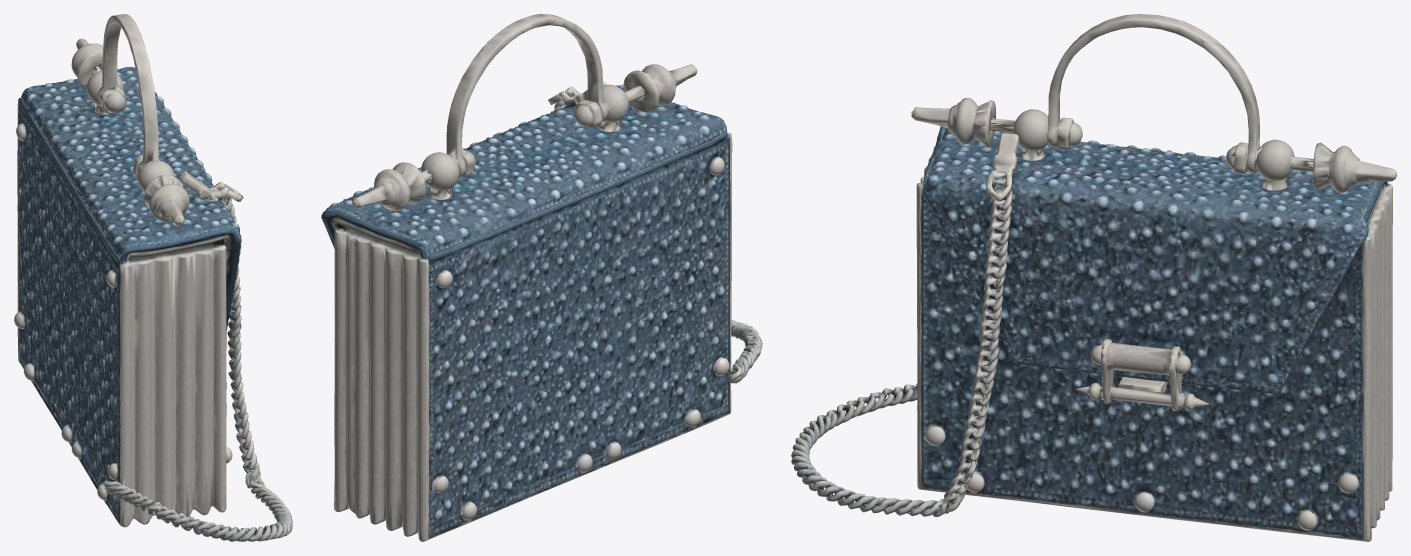
The model's file is shelf_glitter.optimized.glb.
The picture shows the model from 3 angles, left to right: view 1: azimuth 30°, elevation 25°; view 2: azimuth 150°, elevation 25°; view 3: azimuth 270°, elevation 25°; orthographic projection. The views are drawn at different scales.
Parts seen in each view (by area): view 1: tripo_node_97ee6b88-e1a0-4733-9470-9ae4f80dec09; view 2: tripo_node_97ee6b88-e1a0-4733-9470-9ae4f80dec09; view 3: tripo_node_97ee6b88-e1a0-4733-9470-9ae4f80dec09.
Part boxes in pixels (box(x1,y1,x2,y2)): tripo_node_97ee6b88-e1a0-4733-9470-9ae4f80dec09: box(14, 14, 292, 541); tripo_node_97ee6b88-e1a0-4733-9470-9ae4f80dec09: box(321, 14, 762, 541); tripo_node_97ee6b88-e1a0-4733-9470-9ae4f80dec09: box(791, 14, 1396, 541).
Bounding box in the file's own units: 0.4622 × 0.8516 × 0.9791.
1 material, 1 textured.
